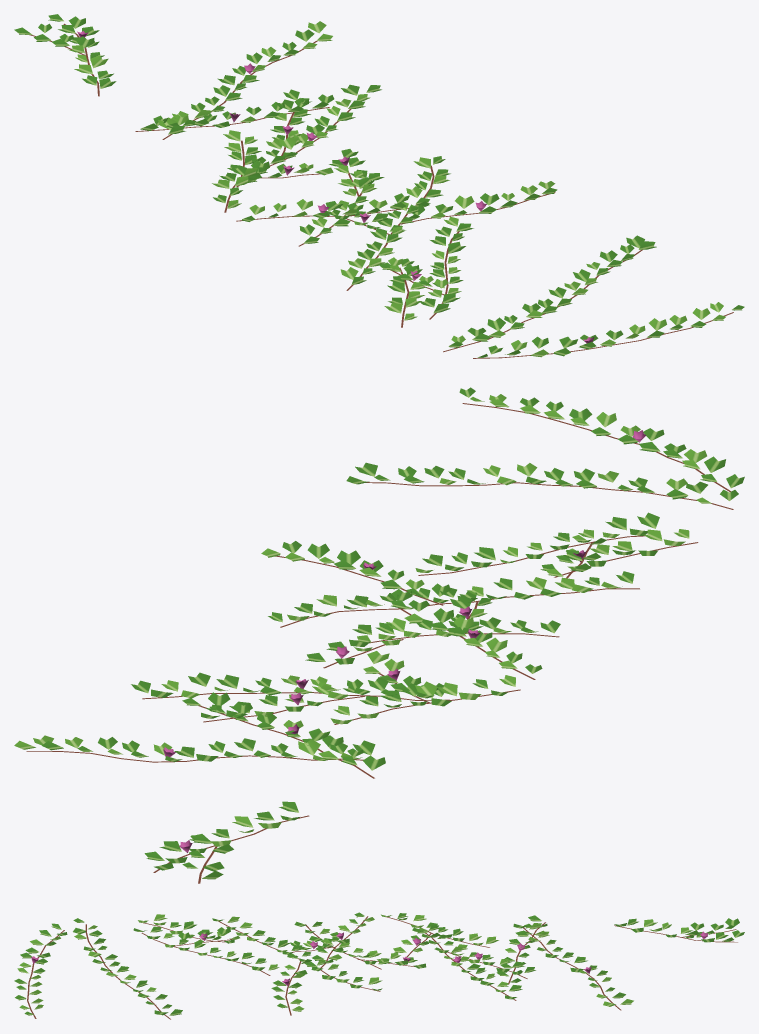
3 views of the same model, one above another, from view 1: azimuth 30°, elevation 25°; view 2: azimuth 150°, elevation 25°; view 3: azimuth 270°, elevation 25° (orthographic). The views are drawn at different scales.
Visible parts, largest first — view 1: foliage; view 2: foliage; view 3: foliage.
Part boxes in pixels (<box>): foliage: <box>14,14,744,358</box>; foliage: <box>14,387,744,883</box>; foliage: <box>14,912,744,1019</box>.
Bounding box in the file's own units: 2.12 × 0.0883 × 6.2.
1 material, 1 textured.
